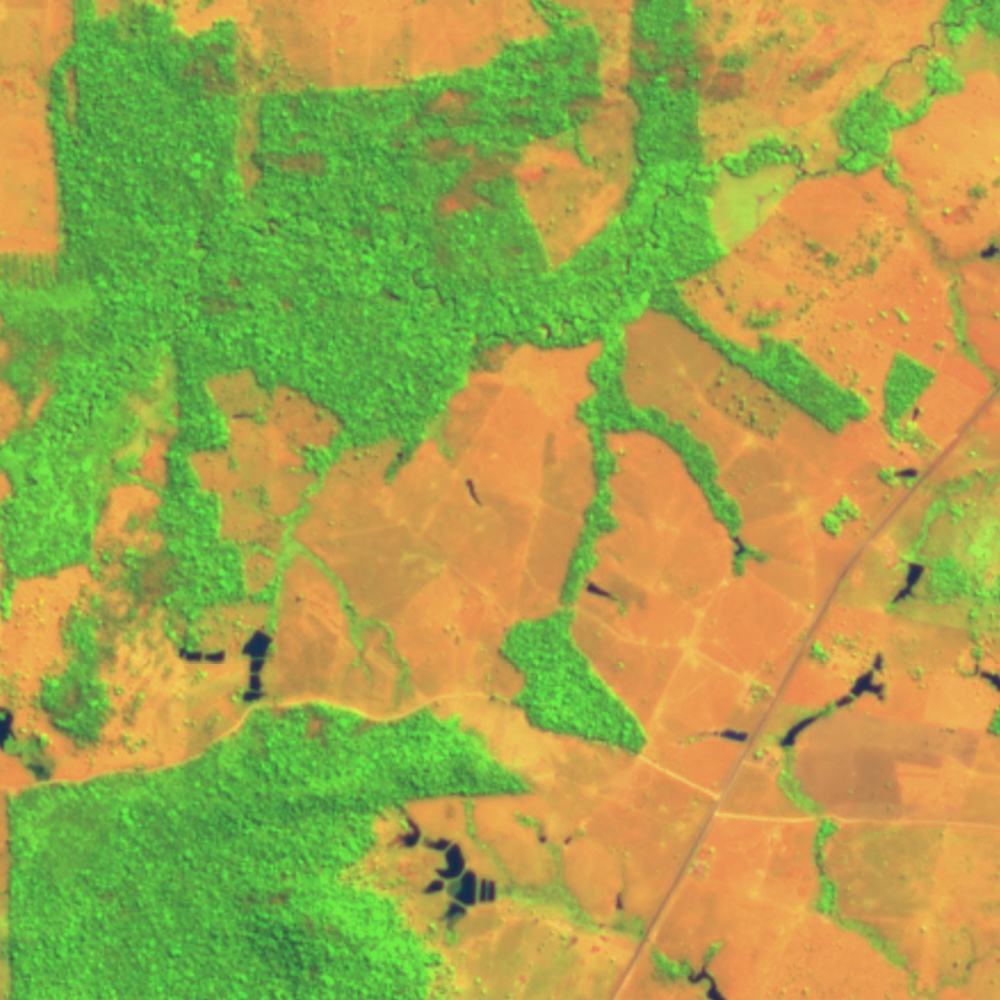illegal: (384, 797, 502, 933), (778, 651, 892, 756), (175, 628, 277, 709), (1, 704, 56, 787), (680, 953, 725, 1000), (888, 558, 931, 606), (687, 728, 755, 744), (581, 577, 617, 602), (972, 663, 1000, 691), (892, 461, 921, 483), (726, 529, 750, 555), (465, 475, 483, 509), (973, 238, 1000, 257)
